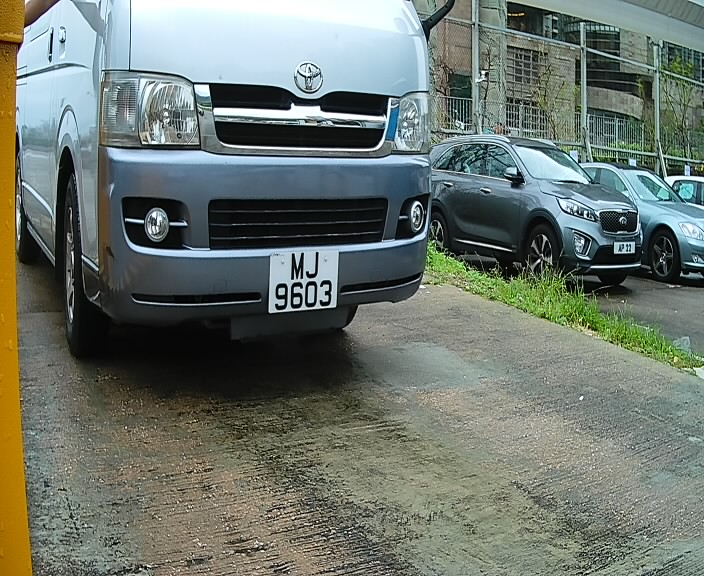Car: (24, 1, 455, 388)
License Plate: (264, 244, 347, 321)
